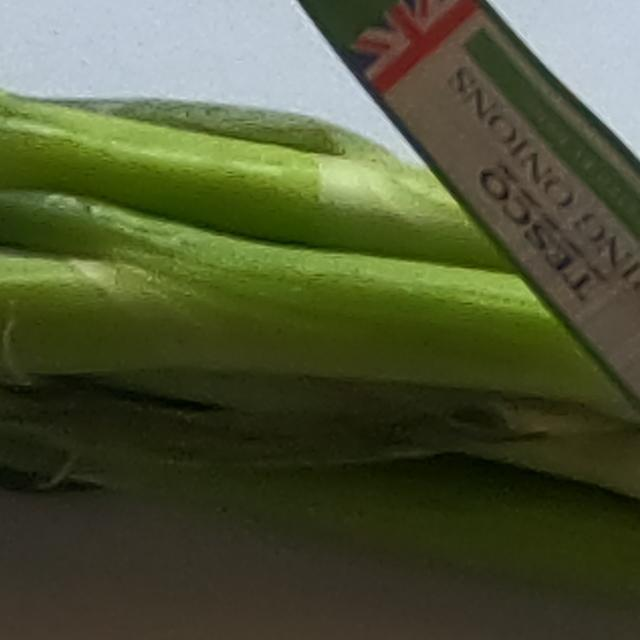green_onion: (0, 0, 640, 532)
